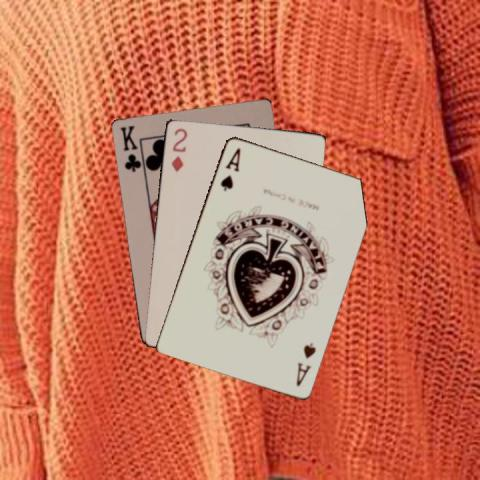2d: (168, 125, 188, 173)
As: (217, 144, 242, 193), (293, 339, 317, 388)
Kc: (117, 122, 141, 173)
